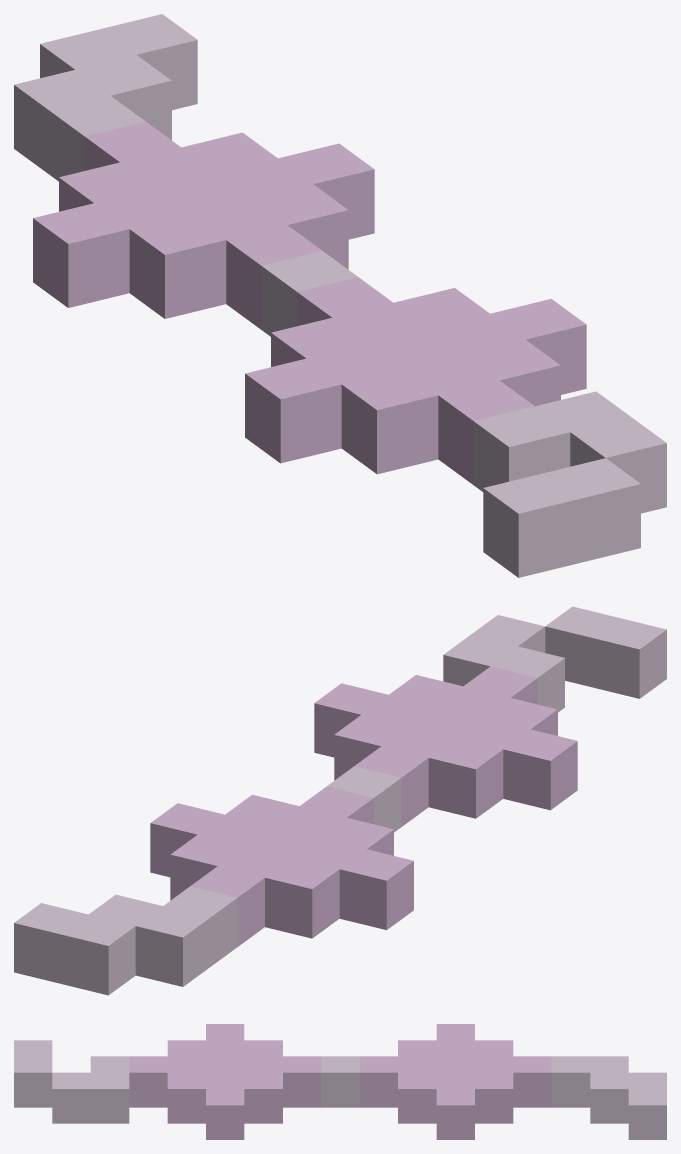
File: Bra00.gltf
The picture shows the model from 3 angles, top to bottom: view 1: azimuth 30°, elevation 25°; view 2: azimuth 150°, elevation 25°; view 3: azimuth 270°, elevation 25°; orthographic projection. The views are drawn at different scales.
Size of the model in its own units: 5 by 1 by 17.
